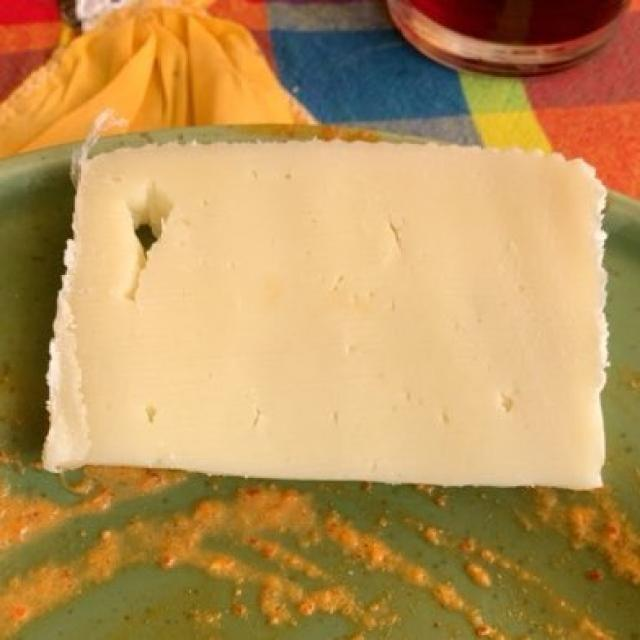cheese: (48, 138, 611, 479)
